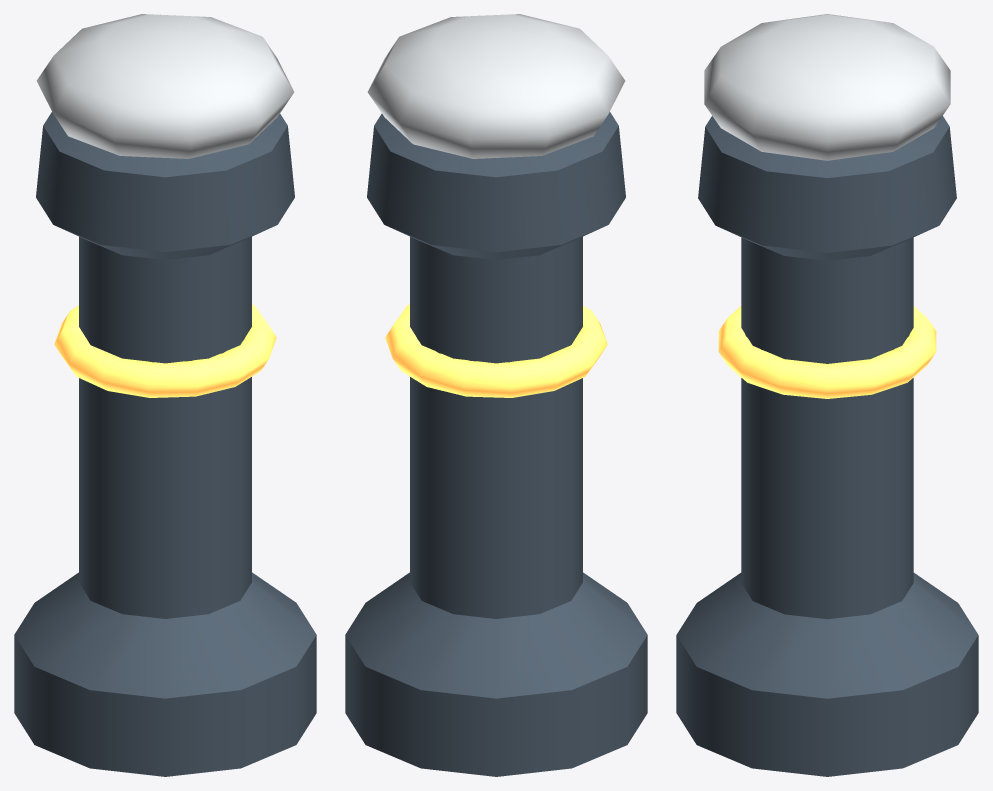
File: alpine-snow-village-snow-capped-iron-bollard-6a9e6a45__19813.glb
The picture shows the model from 3 angles, left to right: view 1: azimuth 30°, elevation 25°; view 2: azimuth 150°, elevation 25°; view 3: azimuth 270°, elevation 25°; orthographic projection.
Parts seen in each view (by area): view 1: snow-capped-iron-bollard-iron, snow-capped-iron-bollard-snow, snow-capped-iron-bollard-amber; view 2: snow-capped-iron-bollard-iron, snow-capped-iron-bollard-snow, snow-capped-iron-bollard-amber; view 3: snow-capped-iron-bollard-iron, snow-capped-iron-bollard-snow, snow-capped-iron-bollard-amber.
Boxes of the visible parts, x1,y1,x2,y2 form: snow-capped-iron-bollard-iron: (14,112,316,776); snow-capped-iron-bollard-snow: (36,14,294,158); snow-capped-iron-bollard-amber: (54,304,276,397); snow-capped-iron-bollard-iron: (345,112,647,776); snow-capped-iron-bollard-snow: (367,14,625,158); snow-capped-iron-bollard-amber: (385,304,607,397); snow-capped-iron-bollard-iron: (676,116,978,776); snow-capped-iron-bollard-snow: (704,14,950,160); snow-capped-iron-bollard-amber: (718,306,936,398).
Bounding box in the file's own units: 0.42 × 1.04 × 0.42.
